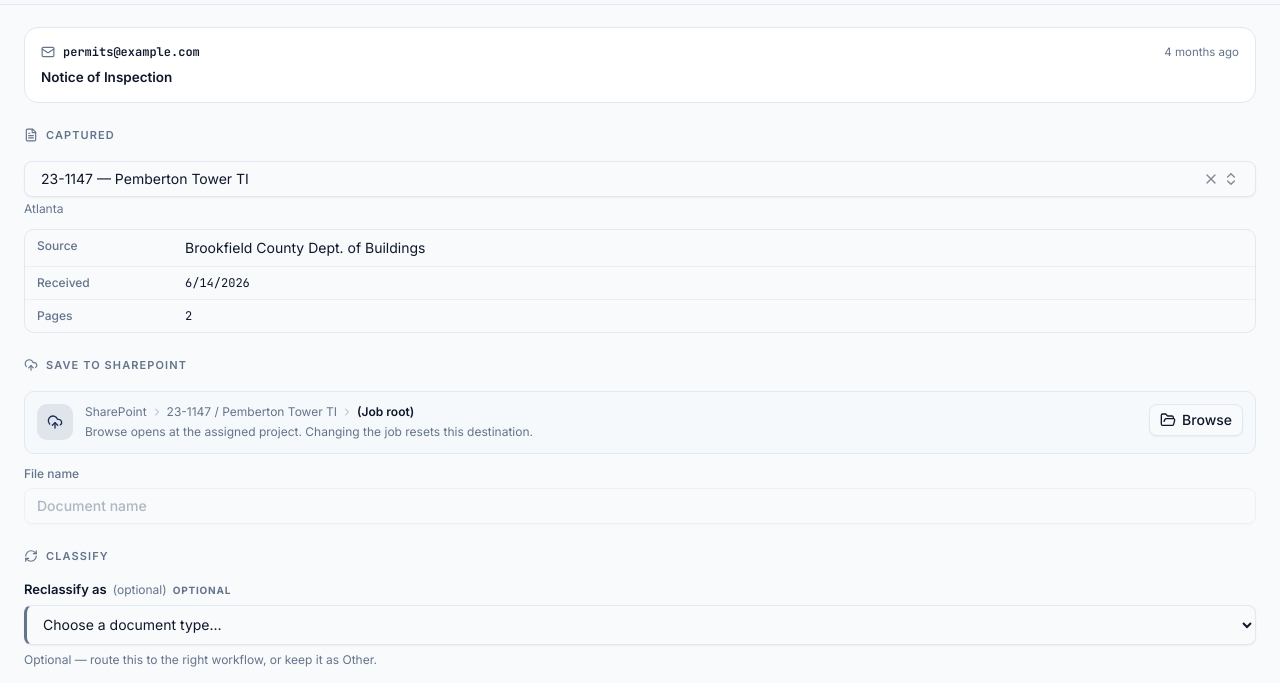
Test: createOtherDocumentSpec › keeps SharePoint rejection unresolved without inventing a filed state
Click the button "Browse". click: {"x": 1196, "y": 420}
box: [1149,404,1243,436]
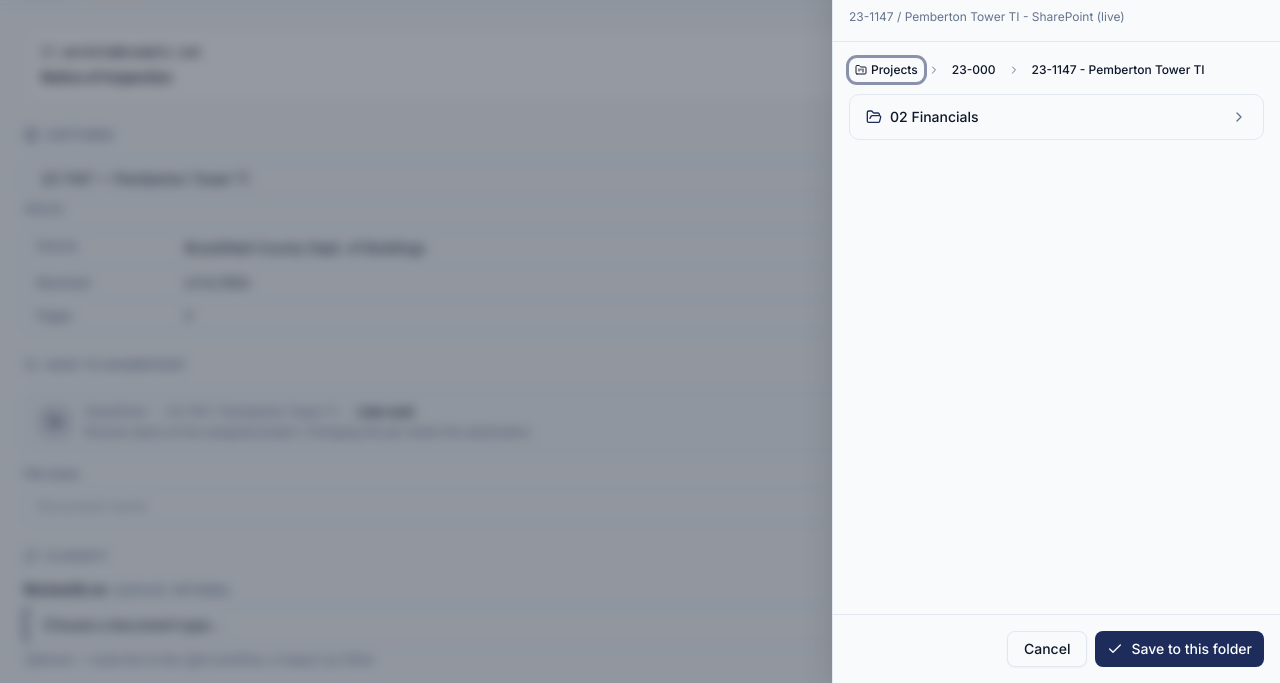
Click the button with aria-label "Open 02 Financials". click: {"x": 934, "y": 116}
box: [854,99,1259,135]
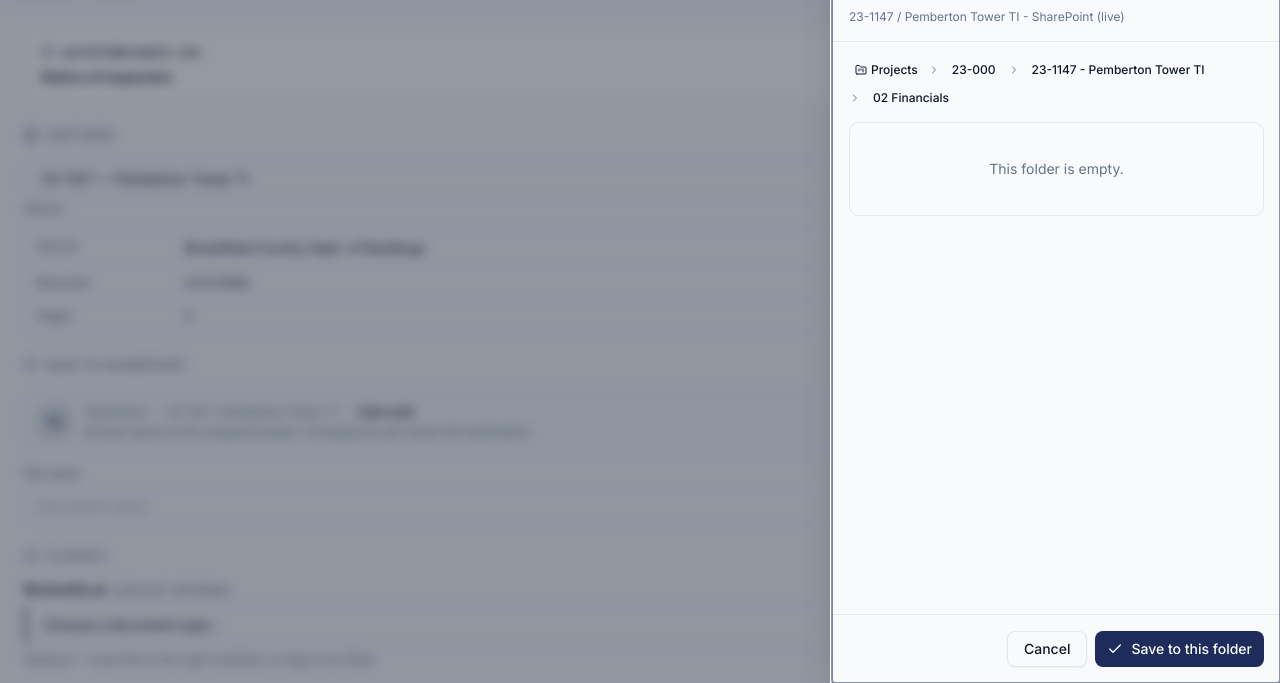
Click the button "Save to this folder". click: {"x": 1180, "y": 649}
box: [1096,631,1264,667]
(page scrolled)
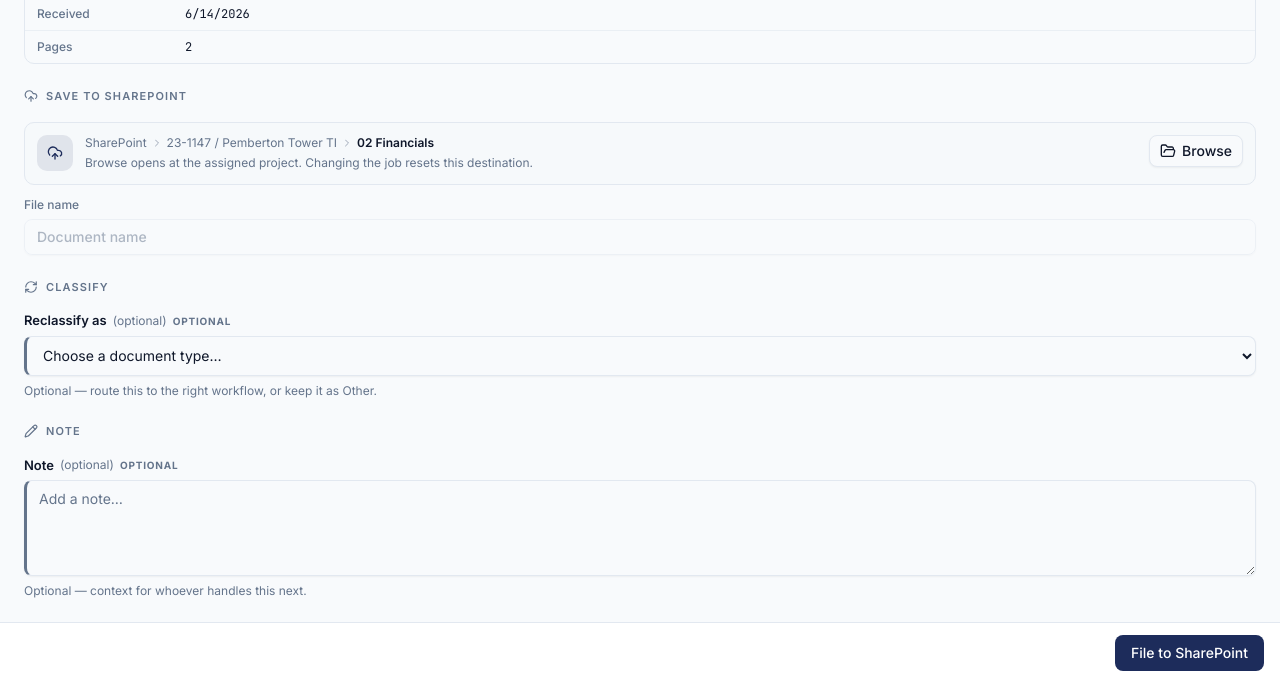
Click the button "File to SharePoint". click: {"x": 1190, "y": 653}
box: [1115,635,1264,671]
(page scrolled)
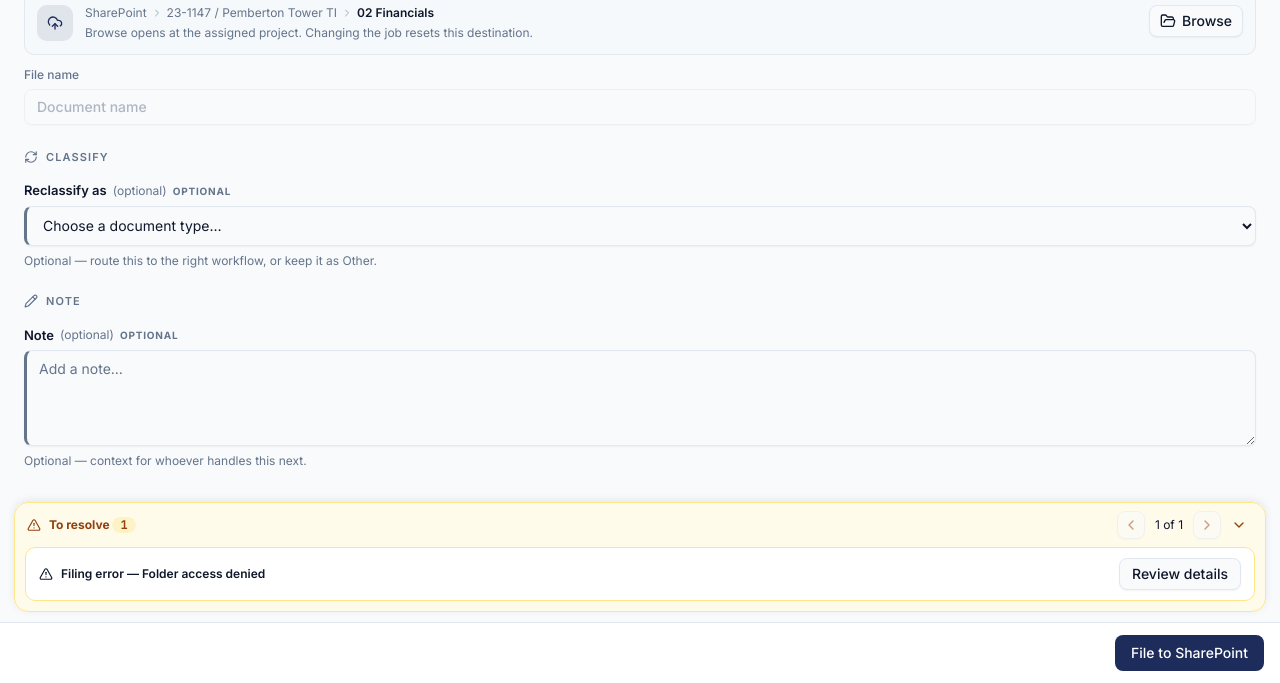
Check: the text "Filing error — Folder access denied" is shown, box [61,566,265,582]
